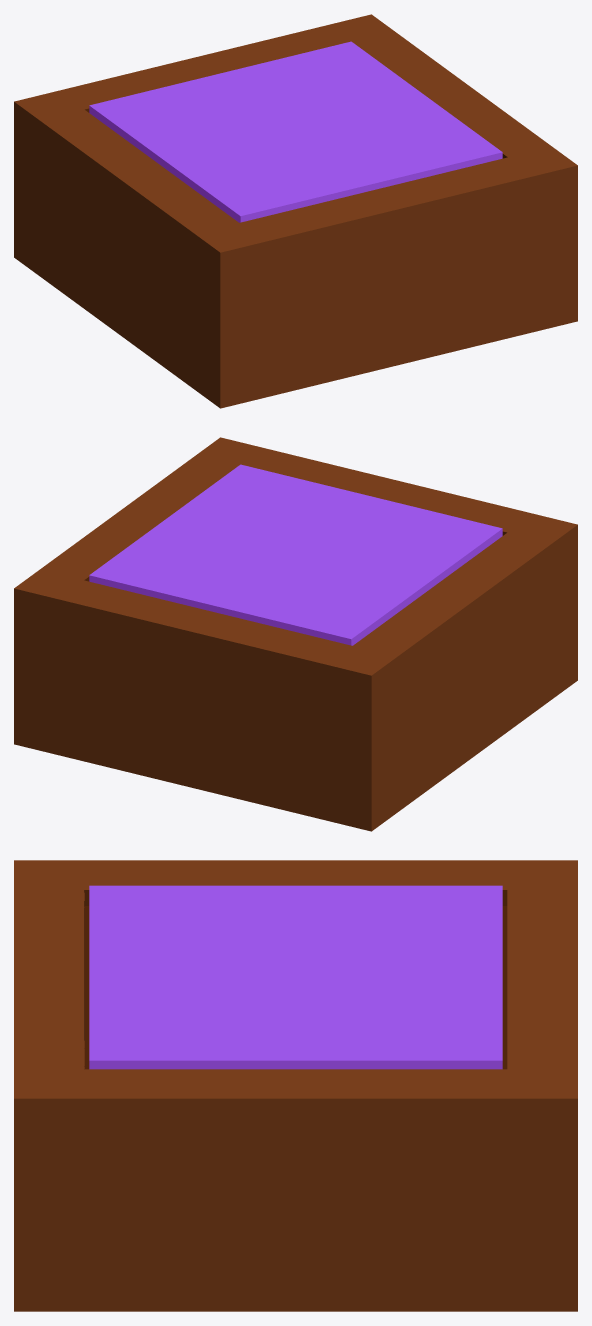
Rendered from frame_ver02.fbx.
3 renders of one model, top to bottom at view 1: azimuth 30°, elevation 25°; view 2: azimuth 150°, elevation 25°; view 3: azimuth 270°, elevation 25°, orthographic. The views are drawn at different scales.
Parts seen in each view (by area): view 1: frame, frame_fill; view 2: frame, frame_fill; view 3: frame, frame_fill.
Boxes of the visible parts, x1=… form: frame: x1=14, y1=14, x2=577, y2=408; frame_fill: x1=89, y1=41, x2=502, y2=222; frame: x1=14, y1=437, x2=577, y2=831; frame_fill: x1=89, y1=464, x2=502, y2=645; frame: x1=14, y1=860, x2=577, y2=1311; frame_fill: x1=89, y1=885, x2=502, y2=1069.
Size of the model in its own units: 120 by 51.5 by 120.
Materials: 2 (1 with a texture image).
